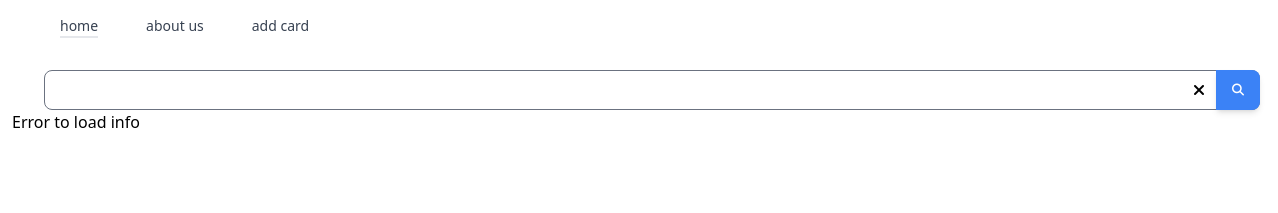
Test: Basic tests › transfer to page about us
Click the link to "/about-us": (175,26) x1=146 y1=16 x2=204 y2=36
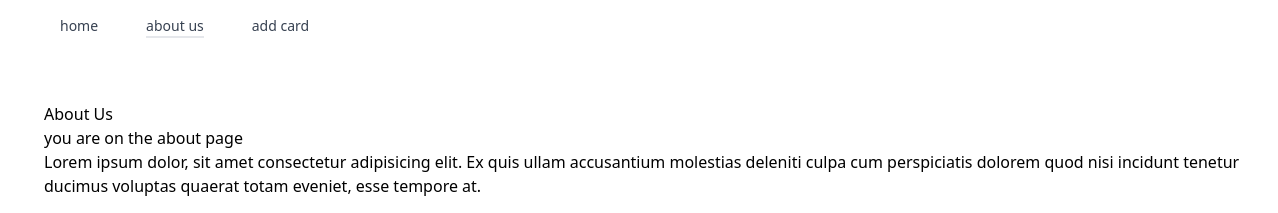
expect the heading "About Us" is shown: met, box x1=44 y1=103 x2=113 y2=125
